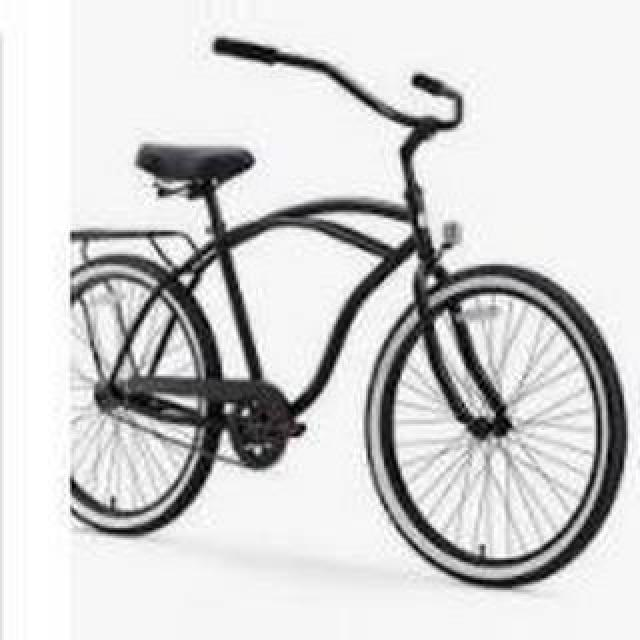Person: (70, 37, 630, 595)
